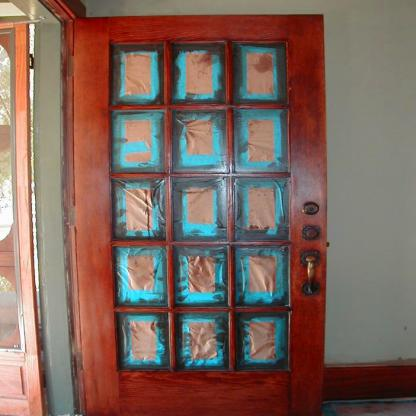door: (64, 21, 320, 414)
hinged: (67, 206, 77, 228), (67, 54, 75, 74), (76, 350, 84, 370)
